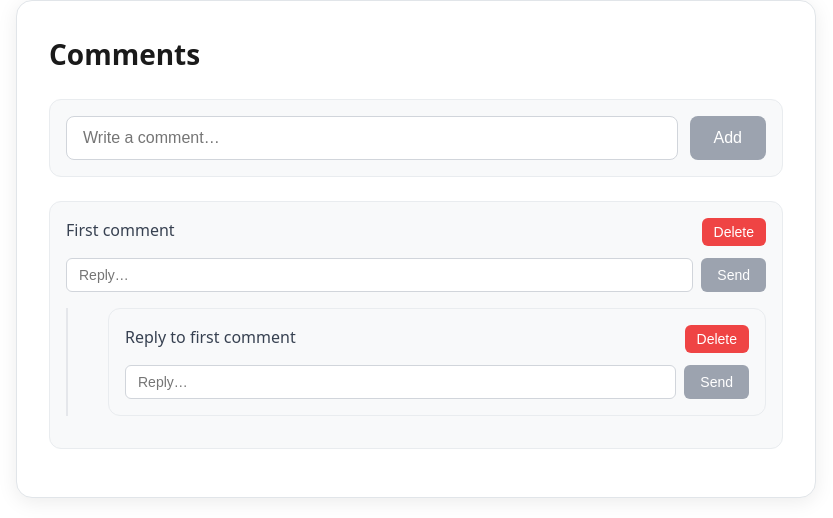
it: Comments Component › enables add button when input has text
The width and height of the screenshot is (833, 518).
Type "Test comment" into the field with placeholder "Write a comment…". click: x=372, y=138
box: x1=66 y1=116 x2=678 y2=160
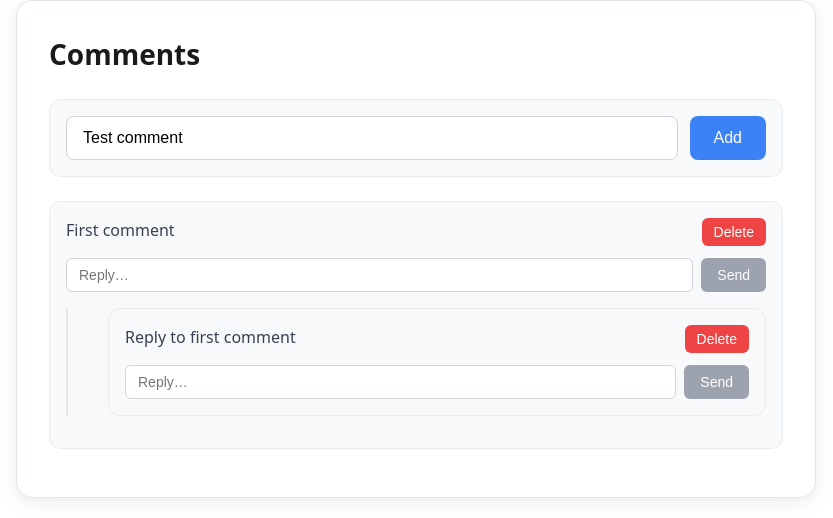
Check: the button "Add" is enabled, box x1=690 y1=116 x2=766 y2=160
